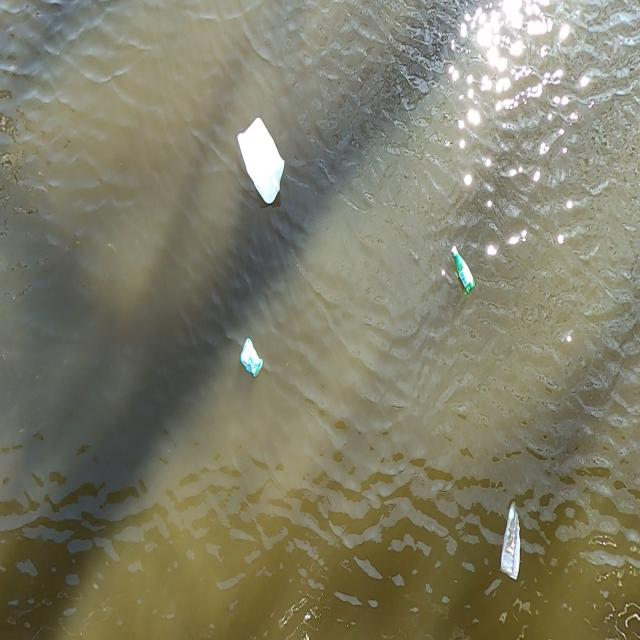Autre plastique: (231, 114, 300, 212), (234, 336, 264, 380)
Bouteille plastique: (448, 246, 478, 299)
